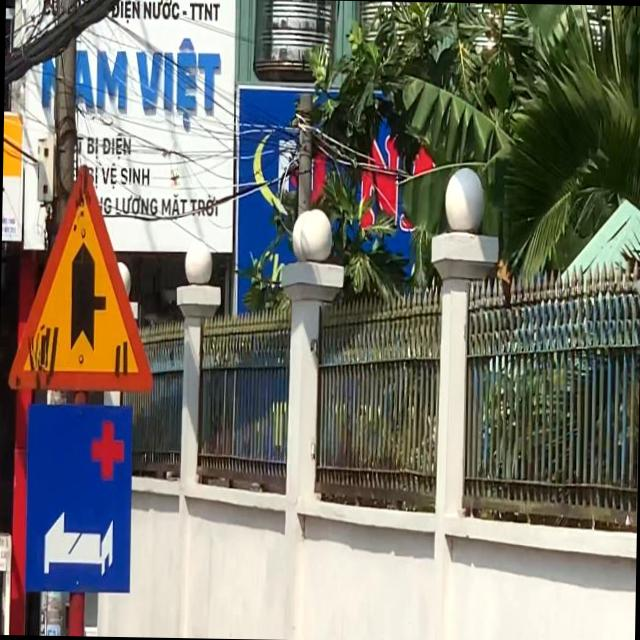I-425: (21, 404, 134, 592)
W-207b: (4, 163, 158, 392)
